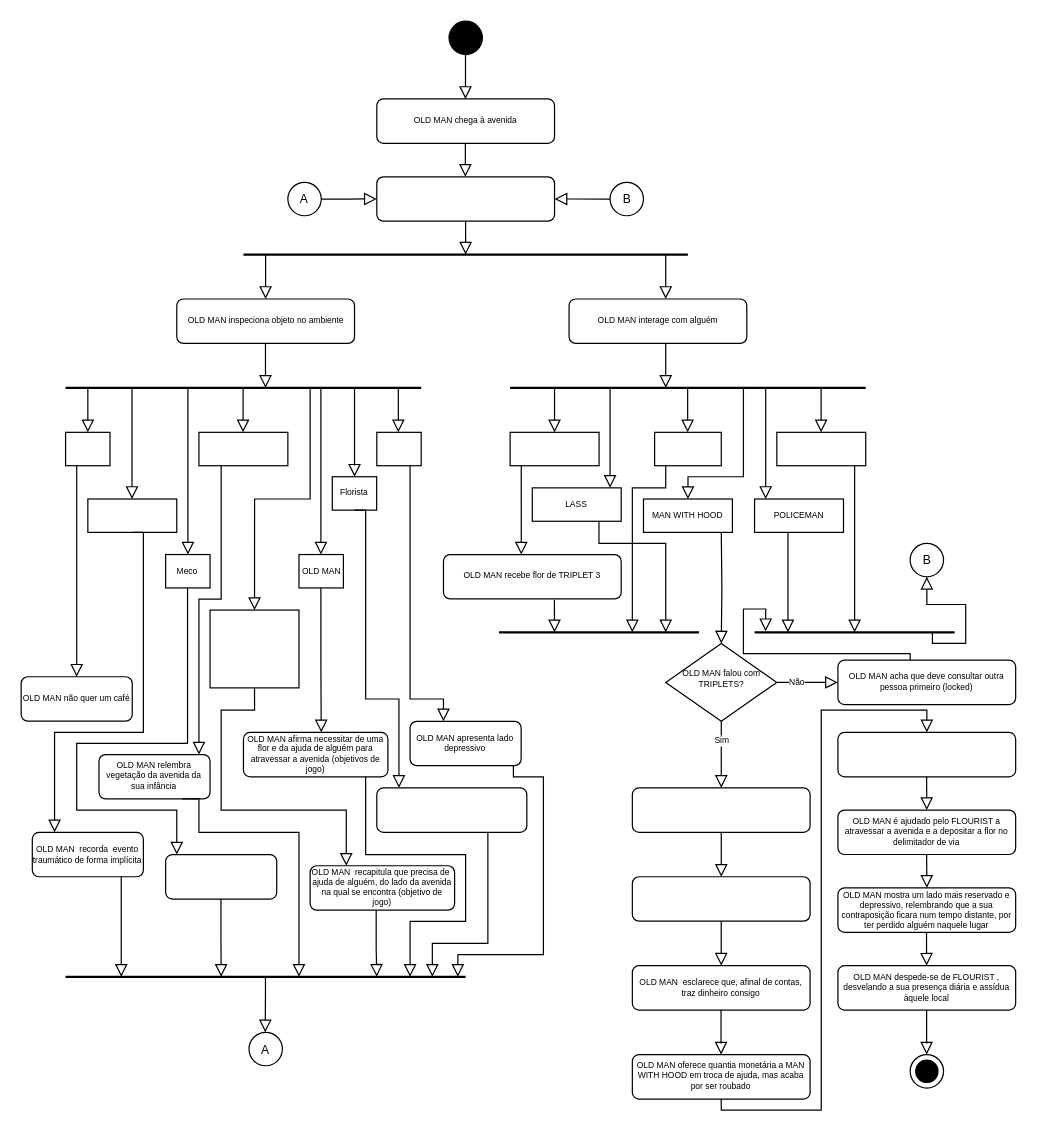
Image size: 1037x1143. Some labels were removed from this diagram. Here are the shapes that lost their labels. From the top down, the centre of each, then its label:
pixel 465 198: OLD MAN procura ajuda para atravessar
pixel 87 448: Café
pixel 243 448: Tronco de árvore
pixel 398 448: Avenida
pixel 554 448: TRIPLETS
pixel 687 448: TEEN
pixel 821 448: OLD LADY
pixel 132 515: Sinal de trânsito
pixel 254 648: (Pessoa do) lado oposto da avenida
pixel 926 754: OLD MAN é socorrido por personagem não-identificada
pixel 451 809: OLD MAN revela que não tem dinheiro
pixel 720 809: OLD MAN interage com MAN WITH HOOD
pixel 220 876: OLD MAN apresenta lado cómico
pixel 720 898: OLD MAN é chantageado por MAN WITH HOOD
